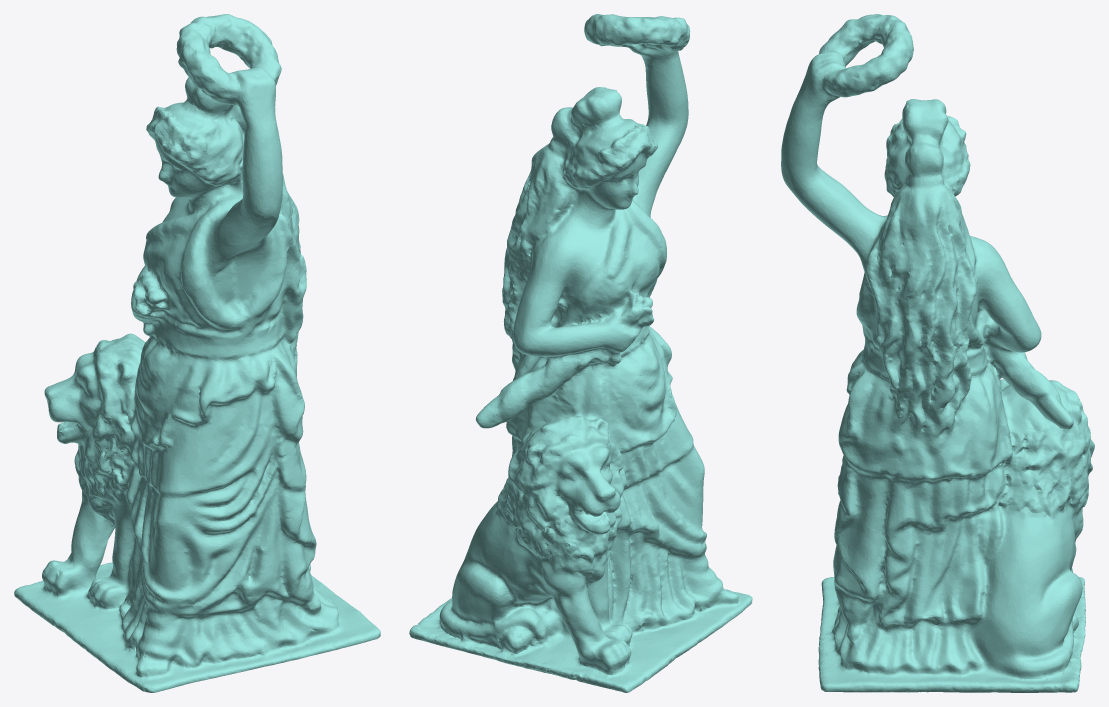
Rendered from statue.glb.
The picture shows the model from 3 angles, left to right: view 1: azimuth 30°, elevation 25°; view 2: azimuth 150°, elevation 25°; view 3: azimuth 270°, elevation 25°; orthographic projection. The views are drawn at different scales.
Visible parts, largest first — view 1: Bavaria2; view 2: Bavaria2; view 3: Bavaria2.
Boxes of the visible parts, x1,y1,x2,y2 form: Bavaria2: [14, 14, 380, 692]; Bavaria2: [409, 14, 752, 692]; Bavaria2: [781, 14, 1094, 692].
Bounding box in the file's own units: 0.0527 × 0.1305 × 0.0615.
